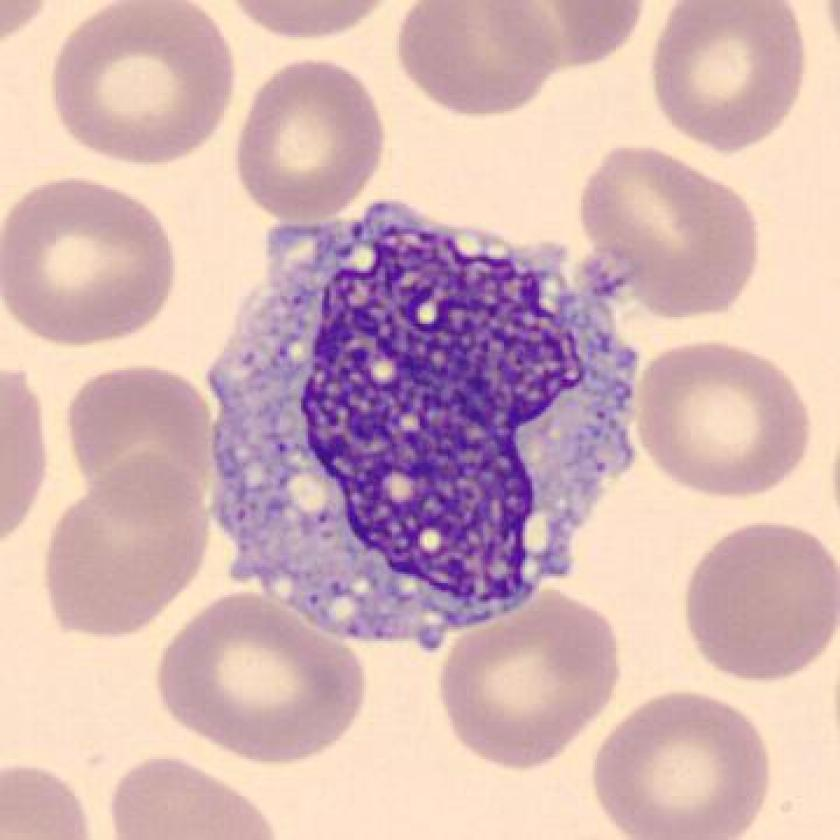monocyte: (192, 191, 666, 670)
